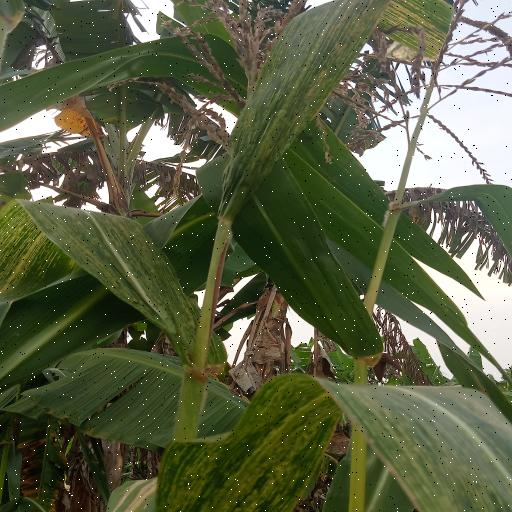Corn_Streak: (212, 0, 439, 211), (176, 370, 512, 512), (0, 196, 194, 334)
